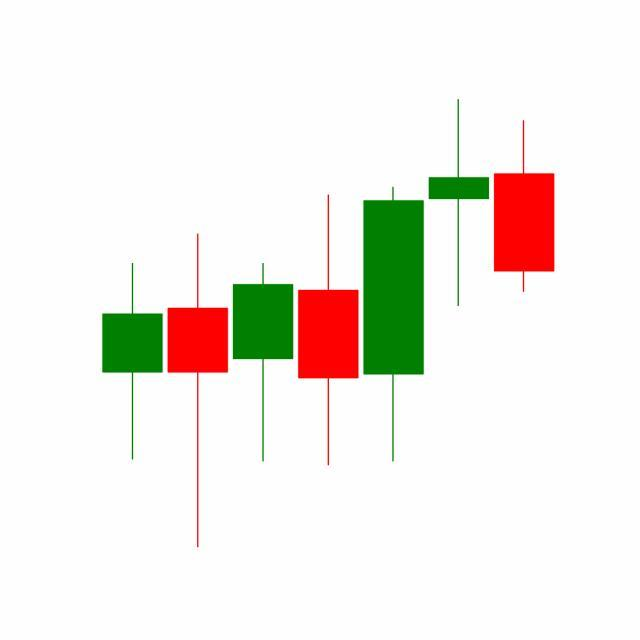Evening Doji Star: (360, 99, 556, 467)
